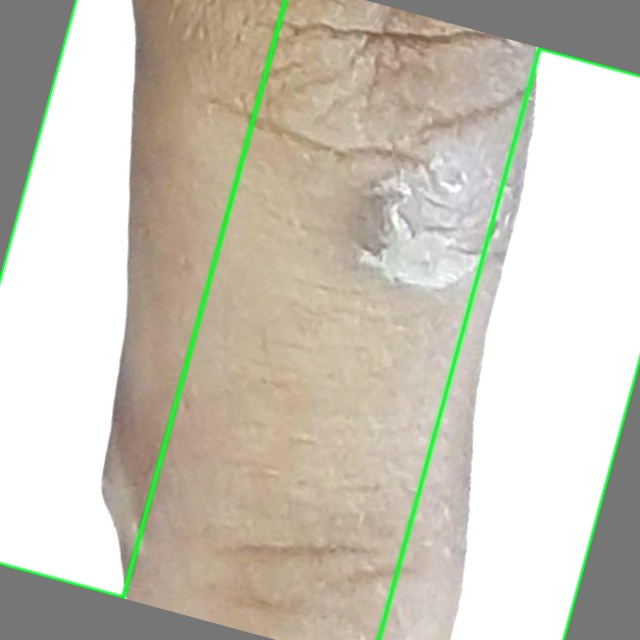Scabies: (0, 0, 285, 597), (378, 48, 639, 639)
